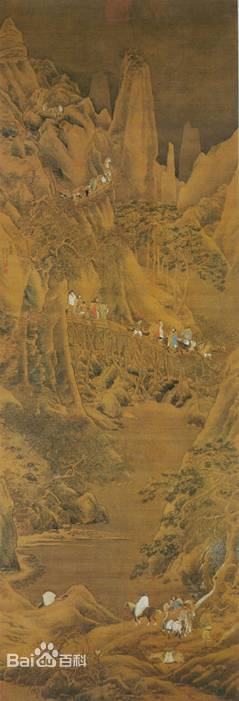man: (129, 319, 204, 353), (163, 600, 198, 636), (68, 294, 112, 321), (130, 598, 152, 627), (62, 180, 95, 198), (42, 107, 74, 122), (97, 160, 110, 188), (42, 592, 57, 603)
mountain: (6, 609, 129, 701), (1, 28, 38, 217), (180, 130, 239, 230), (133, 638, 226, 699), (120, 63, 155, 193), (38, 127, 94, 179), (215, 359, 239, 462)
river: (102, 420, 188, 531), (39, 535, 134, 585)
tree: (120, 205, 221, 312), (13, 408, 96, 504), (25, 210, 117, 273), (21, 307, 72, 408), (73, 357, 188, 394)
